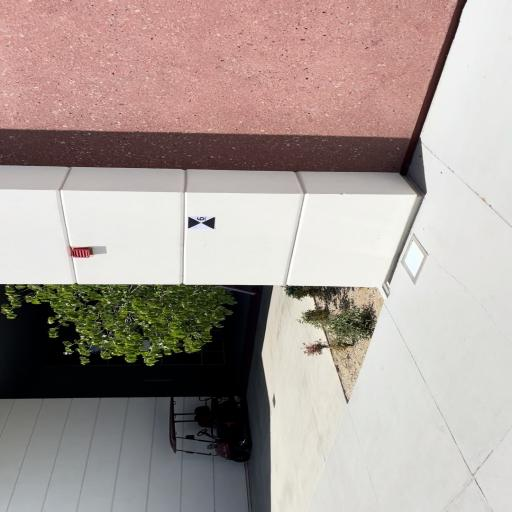target6: (188, 217, 215, 229)
